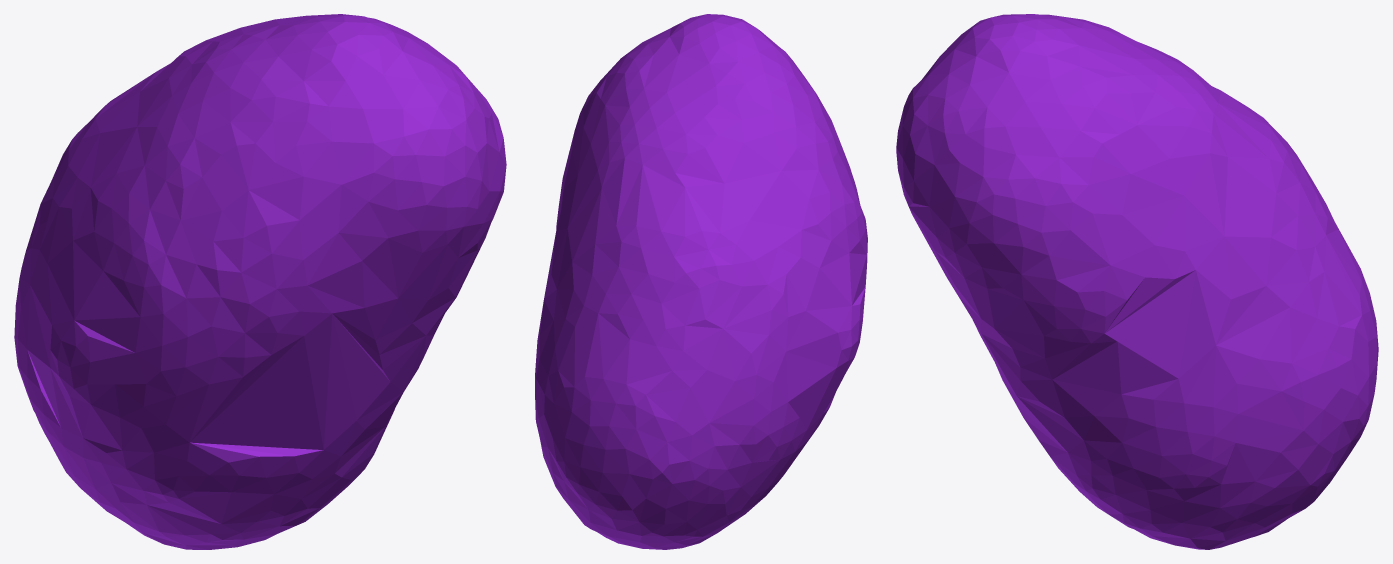
Rendered from Model_10602_LH__Lateral_reticular_nucleus_(LRt).obj.
3 renders of one model, left to right at view 1: azimuth 30°, elevation 25°; view 2: azimuth 150°, elevation 25°; view 3: azimuth 270°, elevation 25°, orthographic. The views are drawn at different scales.
Bounding box in the file's own units: 1.16 × 1.67 × 1.39.
